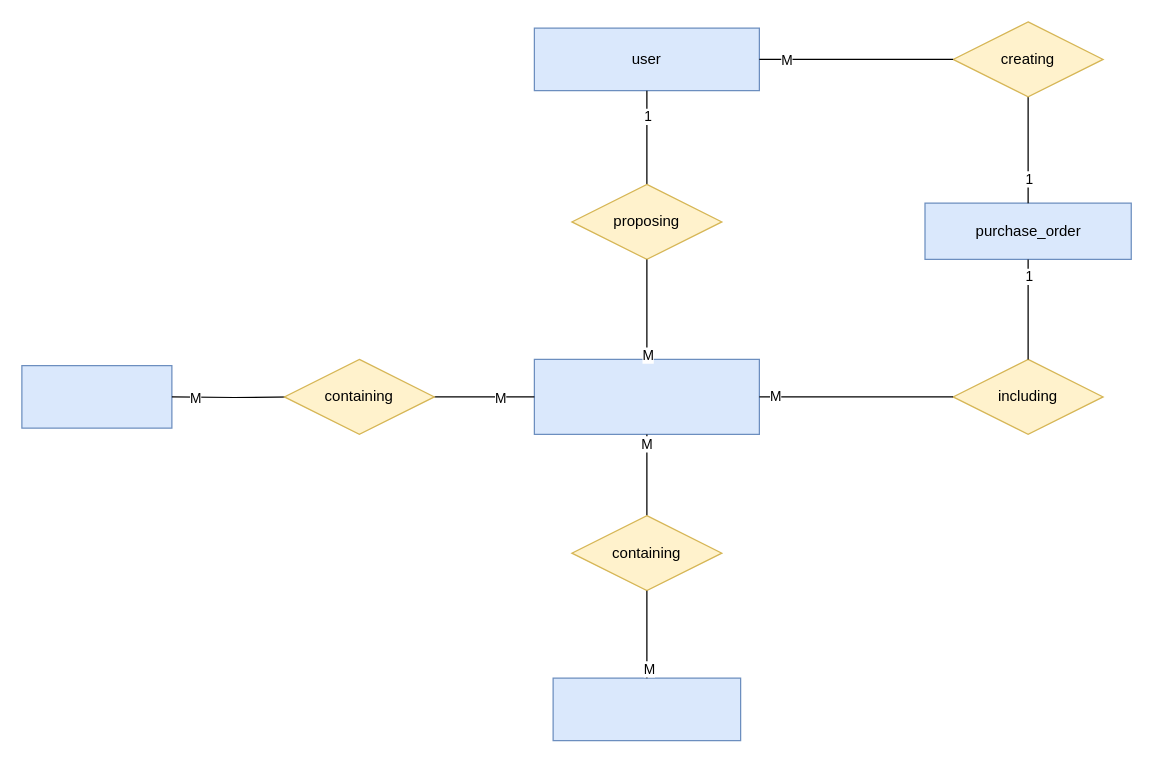
Image size: 1154x763. Some labels were removed from this diagram. Here are the shapes that lost their labels. From the top down, the box of each, then its label:
(21, 364, 172, 428): supplier
(533, 358, 759, 434): purchase_proposal
(552, 677, 741, 741): device
